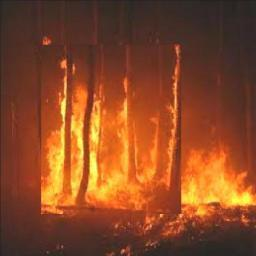Medium fire: (38, 31, 103, 213), (115, 53, 149, 211)
Small fire: (182, 140, 255, 207), (161, 45, 189, 211)
